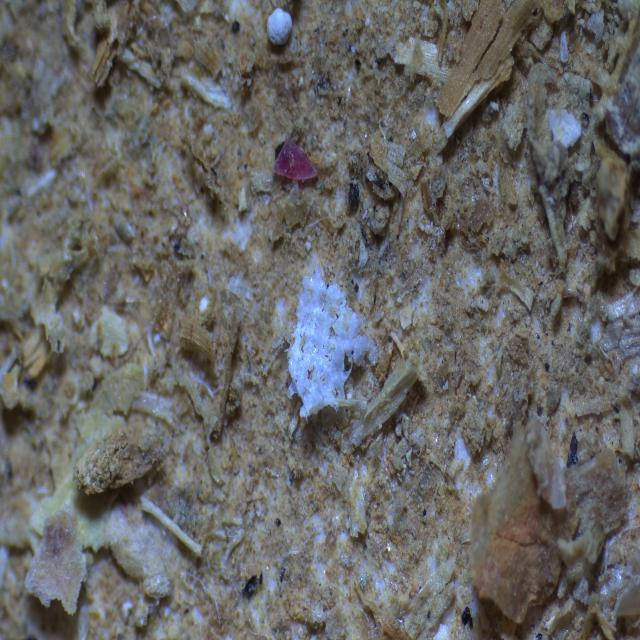microplastic: (233, 249, 391, 431), (256, 134, 320, 203)
